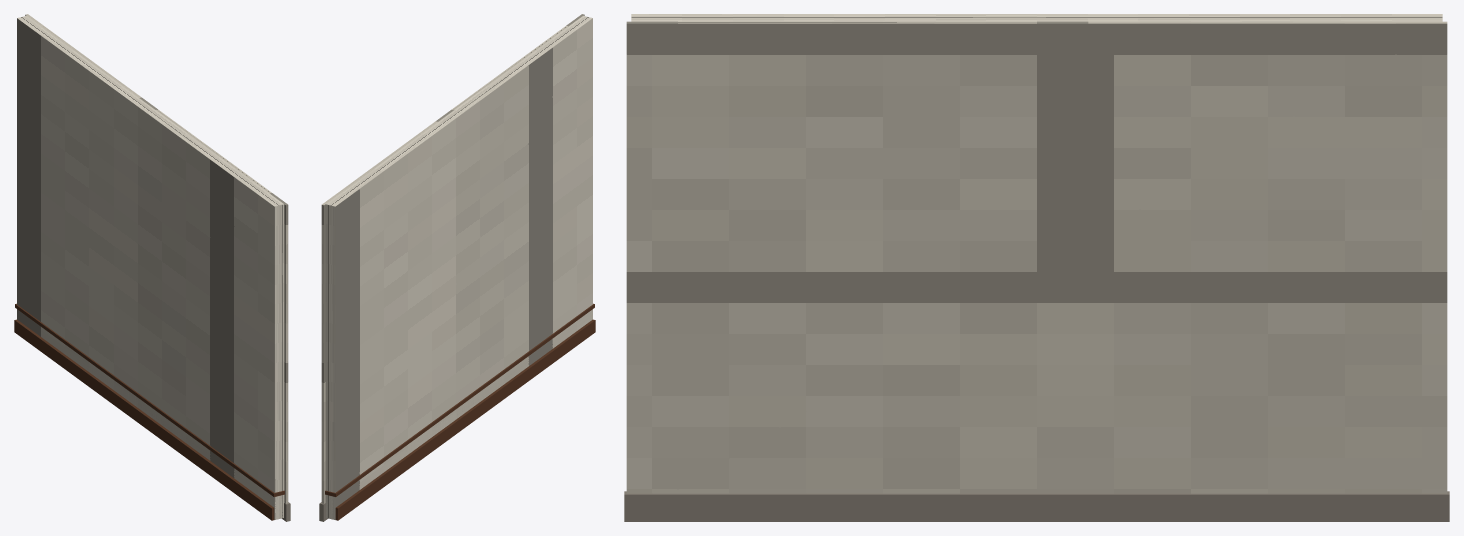
File: cityhall_right.glb
The picture shows the model from 3 angles, left to right: view 1: azimuth 30°, elevation 25°; view 2: azimuth 150°, elevation 25°; view 3: azimuth 270°, elevation 25°; orthographic projection. The views are drawn at different scales.
Parts seen in each view (by area): view 1: Box1, Box2, Box3, Box6, Box5; view 2: Box1, Box2, Box3, Box6, Box5; view 3: Box3, Box4, Box1.
Boxes of the visible parts, x1,y1,x2,y2 form: Box1: (17,15,284,519); Box2: (14,319,274,520); Box3: (25,14,288,503); Box6: (15,303,284,496); Box5: (17,313,284,519); Box1: (325,15,592,519); Box2: (335,319,595,520); Box3: (321,14,584,503); Box6: (325,303,594,496); Box5: (325,313,592,519); Box3: (626,21,1447,493); Box4: (624,491,1449,521); Box1: (631,14,1442,21).
Size of the model in its own units: 0.25 by 4.64 by 6.97.
4 materials, 2 textured.
